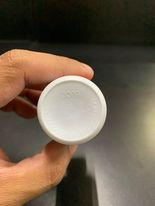-Bottle-: (36, 75, 108, 145)
